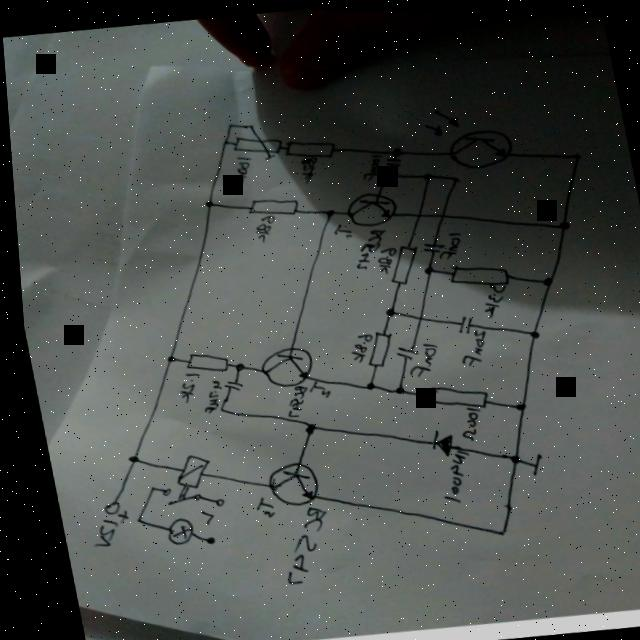capacitor: (387, 342, 413, 360), (449, 312, 470, 332), (417, 237, 442, 251), (216, 377, 237, 391), (381, 154, 399, 166)
crossover: (407, 205, 423, 220), (431, 206, 447, 220), (407, 309, 423, 323)
diode: (420, 425, 447, 456)
ground: (517, 448, 540, 472)
junction: (296, 421, 311, 433), (377, 304, 391, 314), (416, 262, 430, 272), (356, 379, 370, 389), (506, 398, 520, 408), (486, 525, 500, 535), (225, 361, 239, 371), (385, 383, 398, 393), (377, 167, 391, 176), (444, 172, 458, 181), (552, 217, 566, 226), (386, 145, 399, 154), (416, 169, 429, 178), (567, 149, 580, 158), (535, 274, 548, 283), (521, 326, 534, 335), (208, 403, 221, 412), (158, 353, 171, 362), (500, 451, 513, 460), (216, 136, 228, 145), (119, 453, 131, 462), (137, 483, 149, 492), (124, 516, 136, 525), (199, 198, 211, 206), (319, 206, 331, 214), (223, 120, 234, 128), (242, 121, 253, 129)
resistor: (418, 378, 483, 412), (442, 256, 505, 289), (378, 240, 420, 285), (227, 129, 282, 162), (281, 133, 336, 160), (355, 326, 391, 366), (242, 192, 296, 218), (176, 348, 224, 374)
terminal: (93, 499, 113, 514), (194, 533, 207, 544), (203, 497, 217, 507)
text: (262, 502, 330, 584), (425, 446, 471, 503), (344, 225, 388, 268), (397, 338, 437, 377), (447, 325, 486, 364), (473, 278, 506, 317), (77, 516, 113, 549), (448, 402, 478, 440), (190, 378, 220, 414), (275, 383, 306, 417), (340, 329, 371, 362), (168, 370, 198, 404), (429, 227, 461, 257), (353, 151, 384, 180), (226, 154, 253, 186), (369, 243, 396, 272), (248, 213, 274, 242), (295, 154, 319, 183), (299, 377, 324, 398), (245, 495, 268, 517), (327, 221, 350, 237), (189, 507, 206, 525)
transistor: (417, 97, 514, 172), (255, 457, 314, 508), (250, 341, 310, 389), (338, 186, 396, 227)
